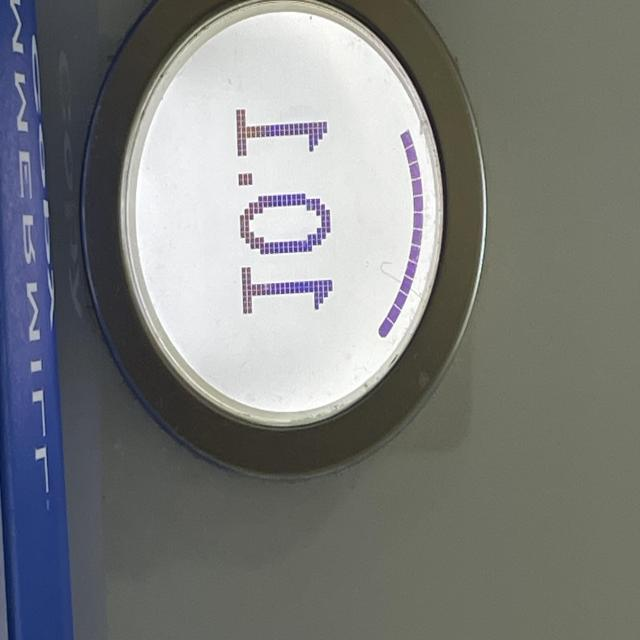ws: (83, 0, 487, 481)
